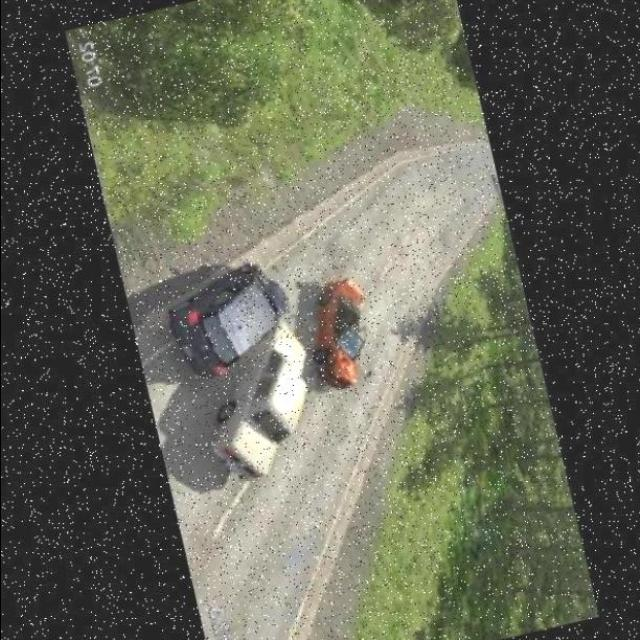accident: (152, 252, 340, 496)
